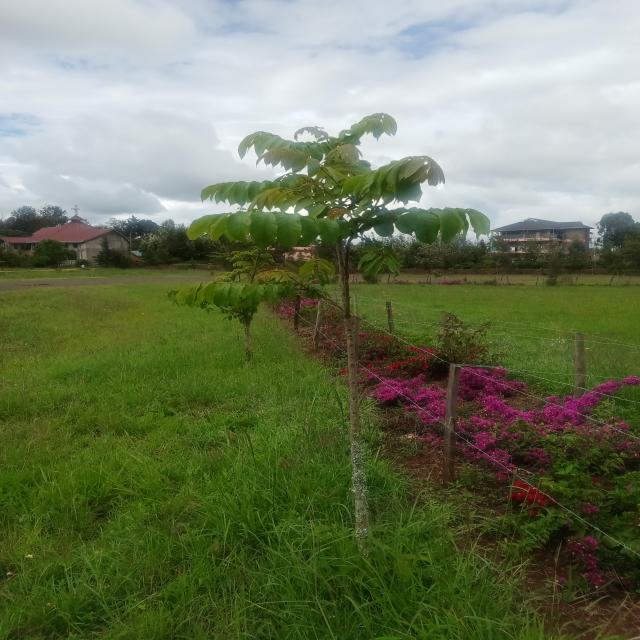Polyscias Kikuyensis: (182, 106, 502, 532)
